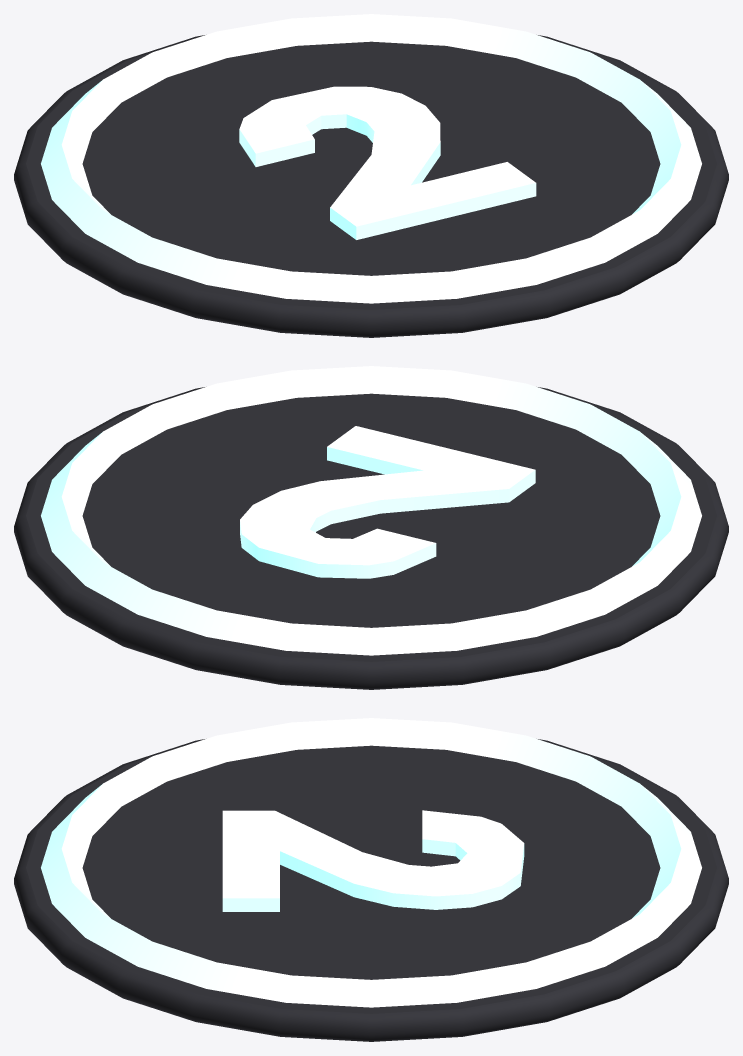
Rendered from kr_joinpad_2.glb.
The picture shows the model from 3 angles, top to bottom: view 1: azimuth 30°, elevation 25°; view 2: azimuth 150°, elevation 25°; view 3: azimuth 270°, elevation 25°; orthographic projection.
Visible parts, largest first — view 1: vc_m0_r4, kr_joinpad_2_neonblue; view 2: vc_m0_r4, kr_joinpad_2_neonblue; view 3: vc_m0_r4, kr_joinpad_2_neonblue.
Part boxes in pixels (x1,y1,x2,y2): vc_m0_r4: (14, 35, 728, 337); kr_joinpad_2_neonblue: (41, 14, 701, 303); vc_m0_r4: (14, 387, 728, 689); kr_joinpad_2_neonblue: (41, 366, 701, 655); vc_m0_r4: (14, 739, 728, 1041); kr_joinpad_2_neonblue: (41, 718, 701, 1007).
Bounding box in the file's own units: 1.2 × 0.085 × 1.2.
